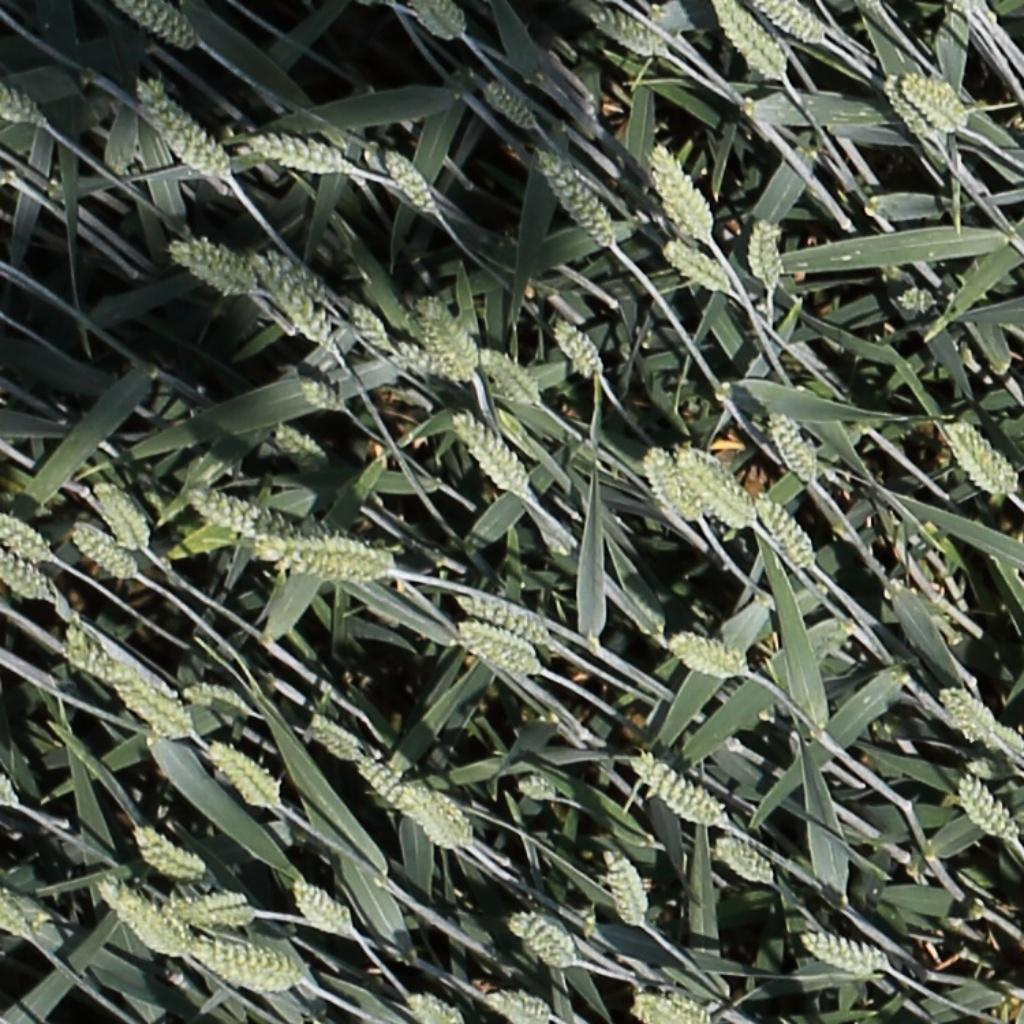0-0: (350, 757, 461, 850), (132, 76, 228, 177), (528, 140, 617, 248), (245, 249, 335, 352), (95, 880, 195, 965), (626, 753, 722, 827), (647, 137, 714, 241), (670, 449, 756, 528), (185, 940, 302, 998), (264, 533, 400, 582), (449, 412, 528, 494), (942, 686, 1024, 764), (709, 1, 786, 81), (184, 487, 294, 543), (942, 419, 1014, 499), (453, 617, 543, 680), (416, 288, 479, 375), (750, 492, 817, 573), (105, 664, 185, 731), (641, 445, 704, 528), (375, 143, 442, 221), (237, 131, 354, 175), (203, 744, 278, 811), (763, 405, 821, 488), (954, 774, 1018, 849), (87, 477, 148, 555), (454, 595, 550, 643), (129, 828, 212, 881), (598, 846, 647, 932), (879, 72, 940, 140), (166, 238, 252, 286), (663, 631, 743, 681), (255, 245, 326, 301), (505, 912, 574, 969), (476, 348, 540, 408), (898, 75, 965, 132), (547, 314, 603, 382), (660, 238, 730, 292), (587, 8, 664, 57), (798, 932, 887, 974), (416, 787, 472, 853), (117, 1, 191, 49), (66, 527, 133, 580), (286, 880, 349, 936), (167, 889, 254, 928), (341, 294, 391, 354), (755, 0, 823, 43), (480, 79, 536, 131), (712, 841, 775, 886), (390, 341, 464, 379), (303, 715, 360, 763), (177, 681, 248, 719), (67, 628, 117, 681), (268, 423, 326, 468), (0, 550, 51, 600), (0, 514, 53, 562), (632, 993, 710, 1024), (750, 211, 779, 293), (483, 992, 554, 1023), (415, 1, 469, 38), (0, 886, 32, 943), (296, 376, 345, 412), (404, 992, 457, 1024), (0, 87, 45, 124), (514, 779, 557, 802)
